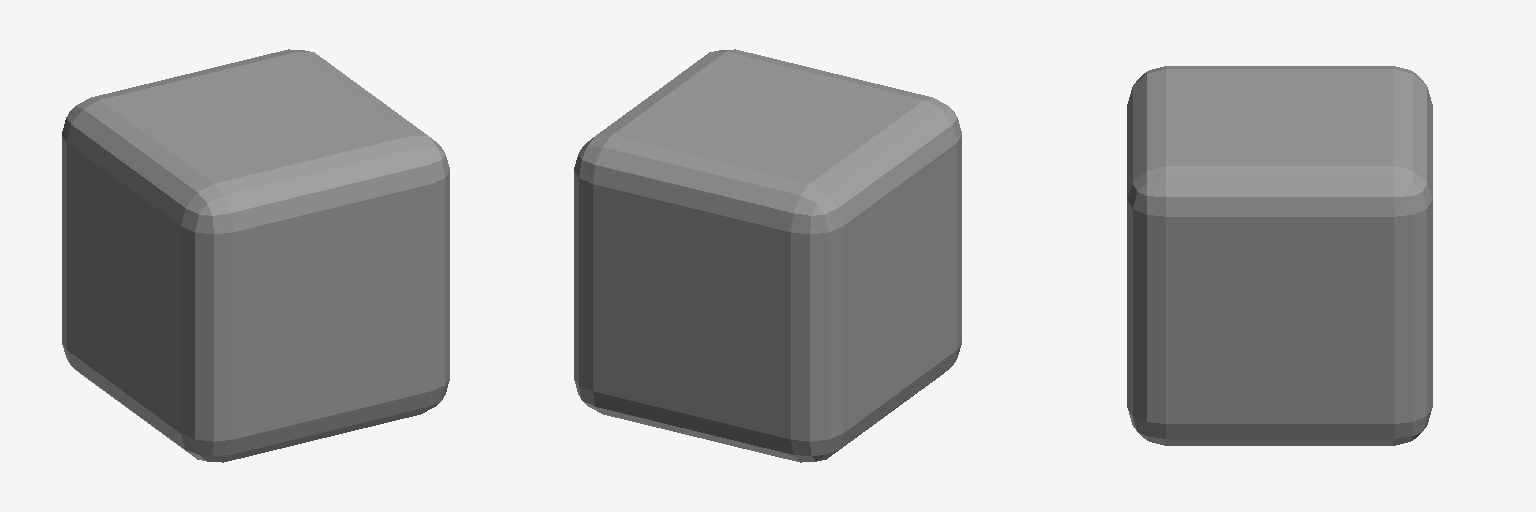
Rendered from cube_with_rounded_edges1.obj.
3 renders of one model, left to right at view 1: azimuth 30°, elevation 25°; view 2: azimuth 150°, elevation 25°; view 3: azimuth 270°, elevation 25°, orthographic.
Parts seen in each view (by area): view 1: cube1; view 2: cube1; view 3: cube1.
Boxes of the visible parts, <box> form: cube1: <box>62,49,449,462</box>; cube1: <box>574,49,961,462</box>; cube1: <box>1127,66,1432,445</box>.
Bounding box in the file's own units: 2 × 2 × 2.